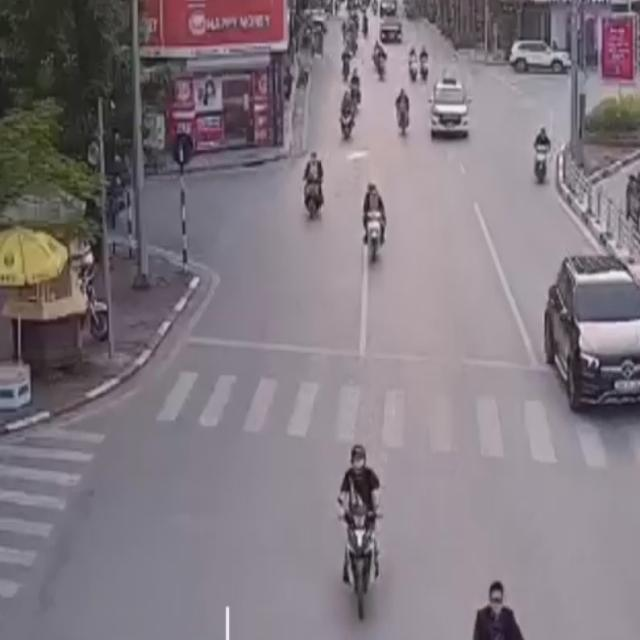car: (540, 251, 640, 421), (427, 74, 472, 144)
motorbike: (336, 435, 384, 621), (358, 179, 387, 264), (303, 148, 327, 224), (530, 120, 554, 180), (339, 89, 359, 142), (393, 81, 412, 133)
